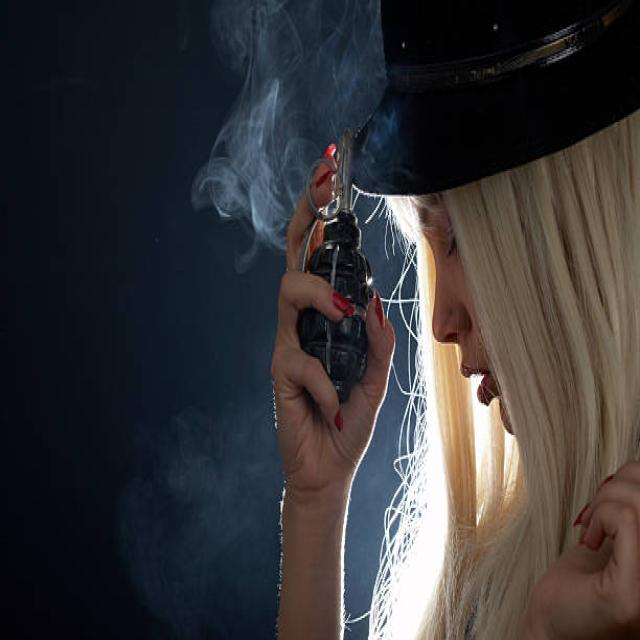grenade: (300, 126, 381, 408)
